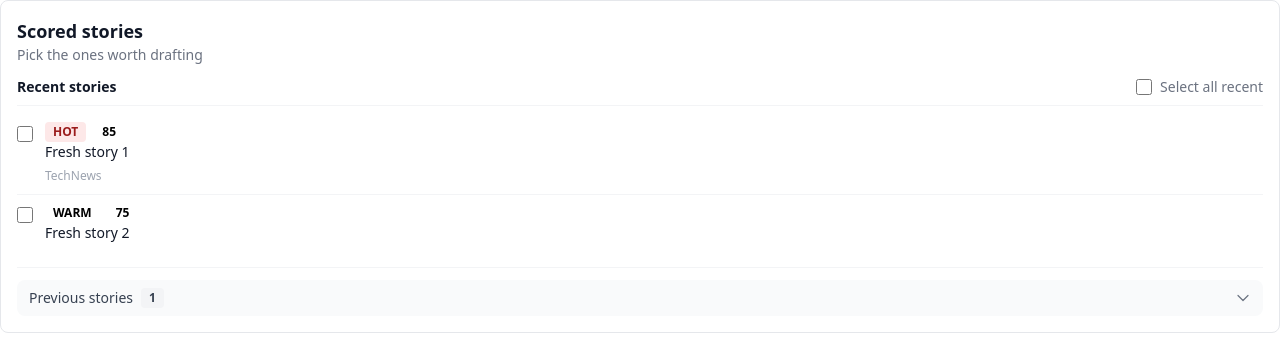
Test: ScoredCandidates › toggles all recent candidates with select all recent checkbox
Click the checkbox labelled "Select all recent".
click(1144, 87)  # box [1136, 79, 1152, 95]
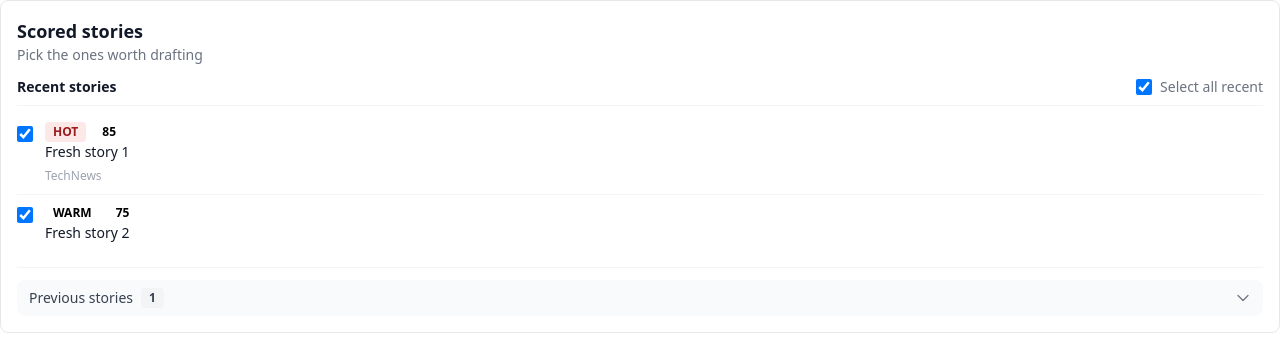
expect the checkbox named "Fresh story 1" is checked: met, box [17, 126, 33, 142]
expect the checkbox named "Fresh story 2" is checked: met, box [17, 207, 33, 223]
Click the checkbox labelled "Select all recent".
click(1144, 87)  # box [1136, 79, 1152, 95]
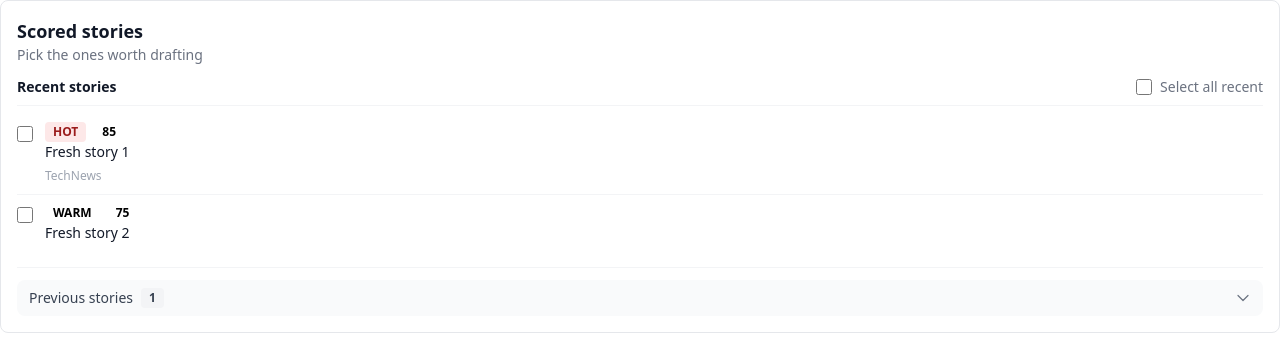
expect the checkbox named "Fresh story 1" is not checked: met, box [17, 126, 33, 142]
expect the checkbox named "Fresh story 2" is not checked: met, box [17, 207, 33, 223]
